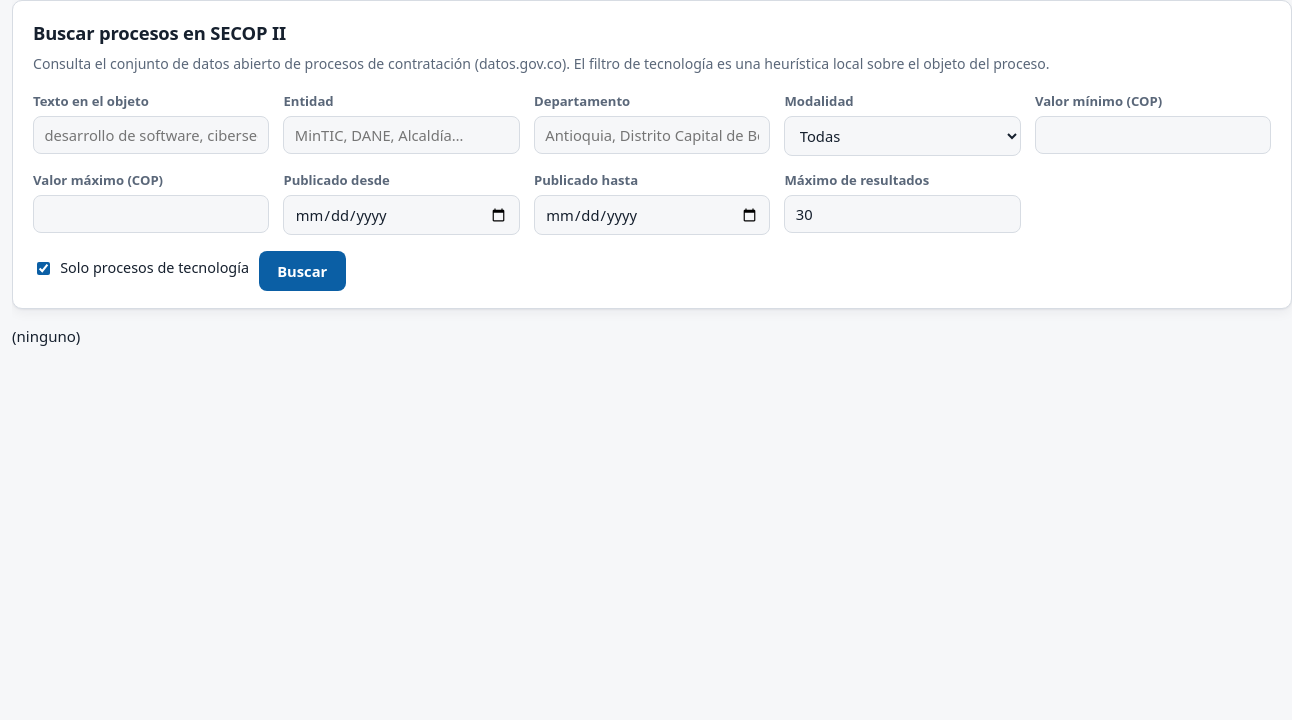
Test case: vista Buscar › elegir un proceso lo lleva al análisis con el proceso cargado
Click the button "Buscar" at (302,271), box [259, 251, 346, 291]
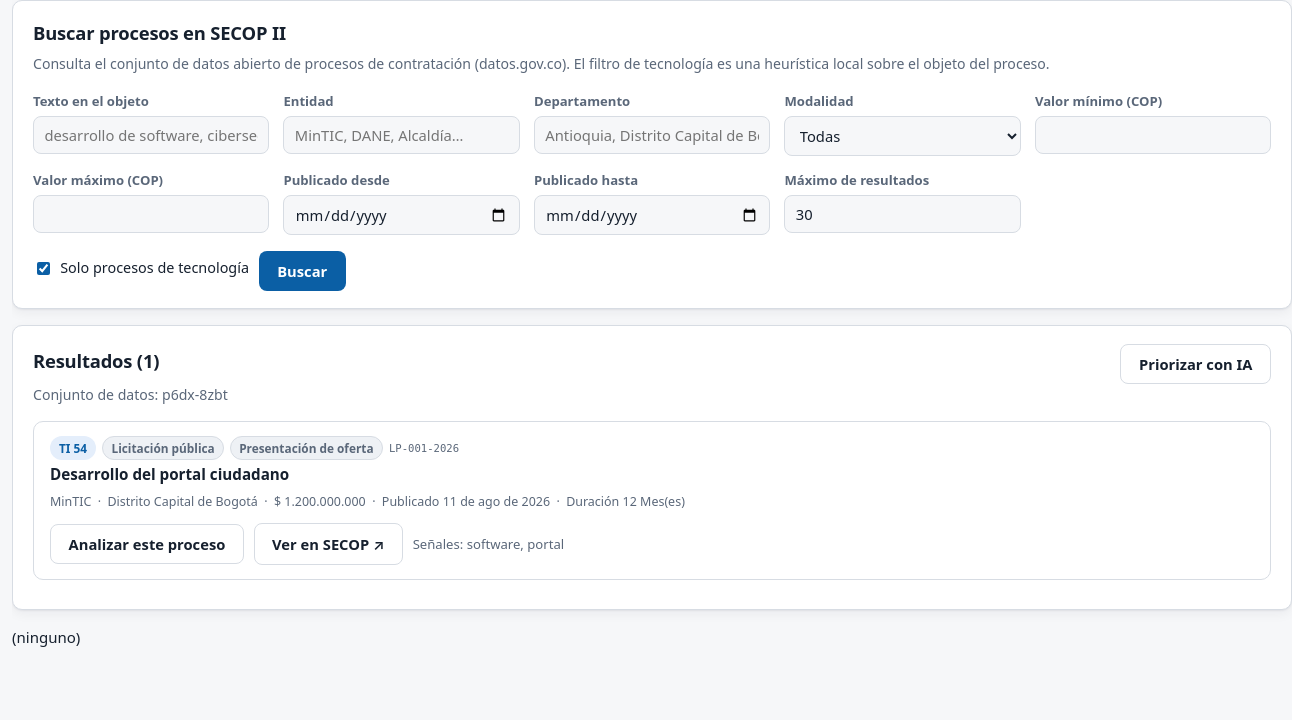
Click the button "Analizar este proceso" at (147,544), box [50, 524, 244, 564]
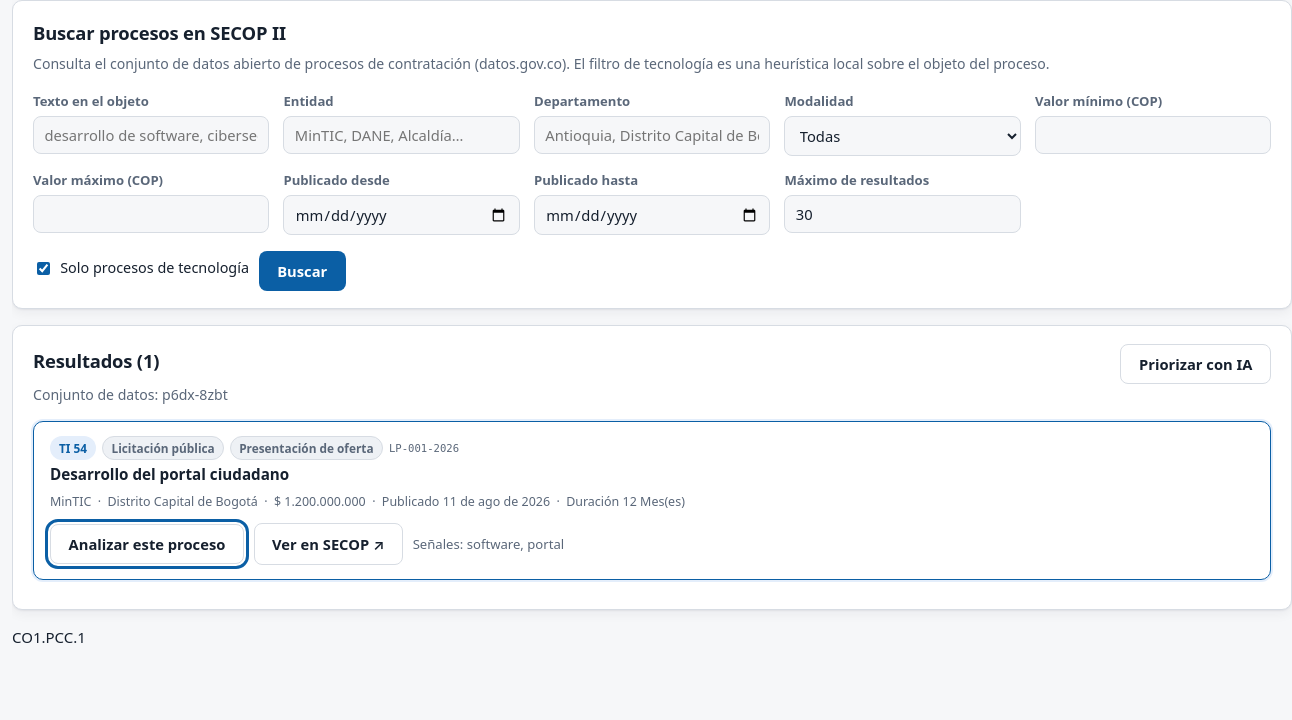
Now the text with test id "elegido" reads "CO1.PCC.1", box [12, 627, 86, 647]
